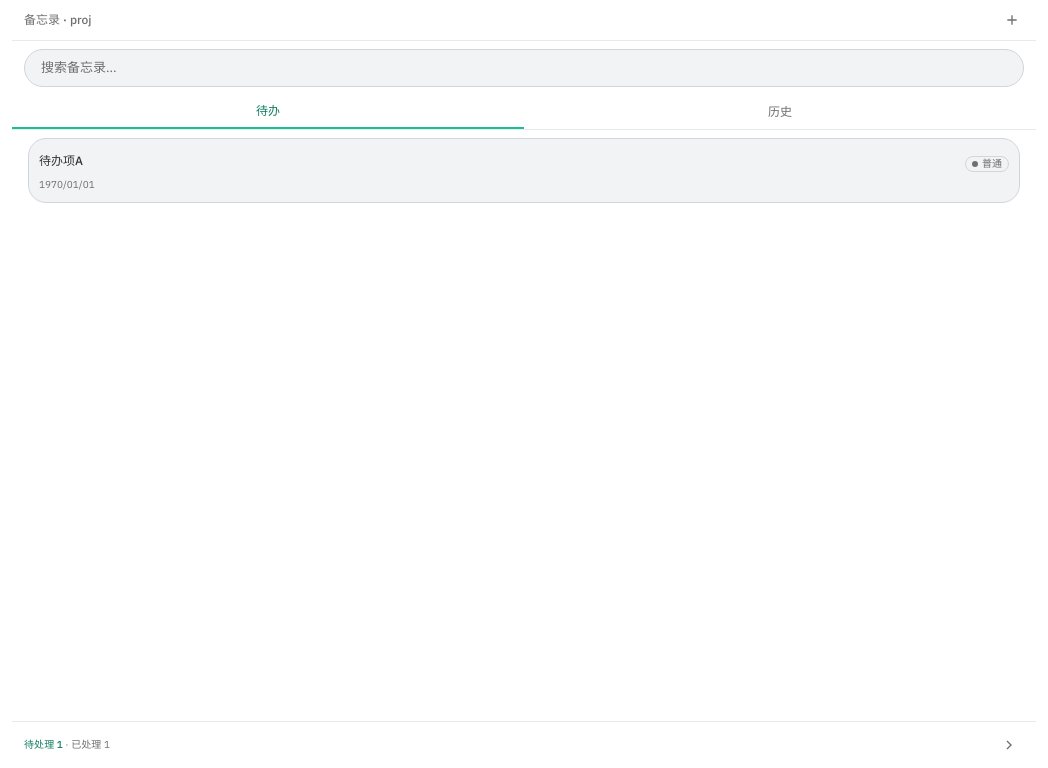
Test: MemoPanel · Tab 切换 › 切回待办 Tab 后待办项可见
Click the button "历史" at (780, 112), box [524,94,1036,128]
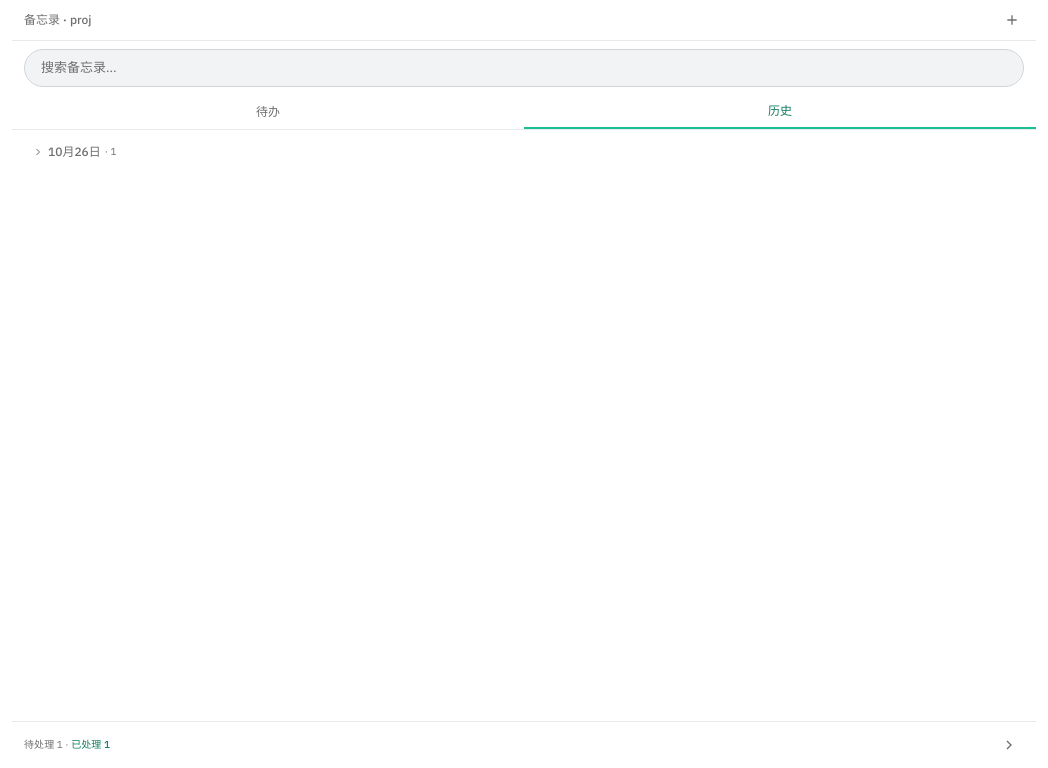
Click the button "待办" at (268, 112), box [12,94,524,128]
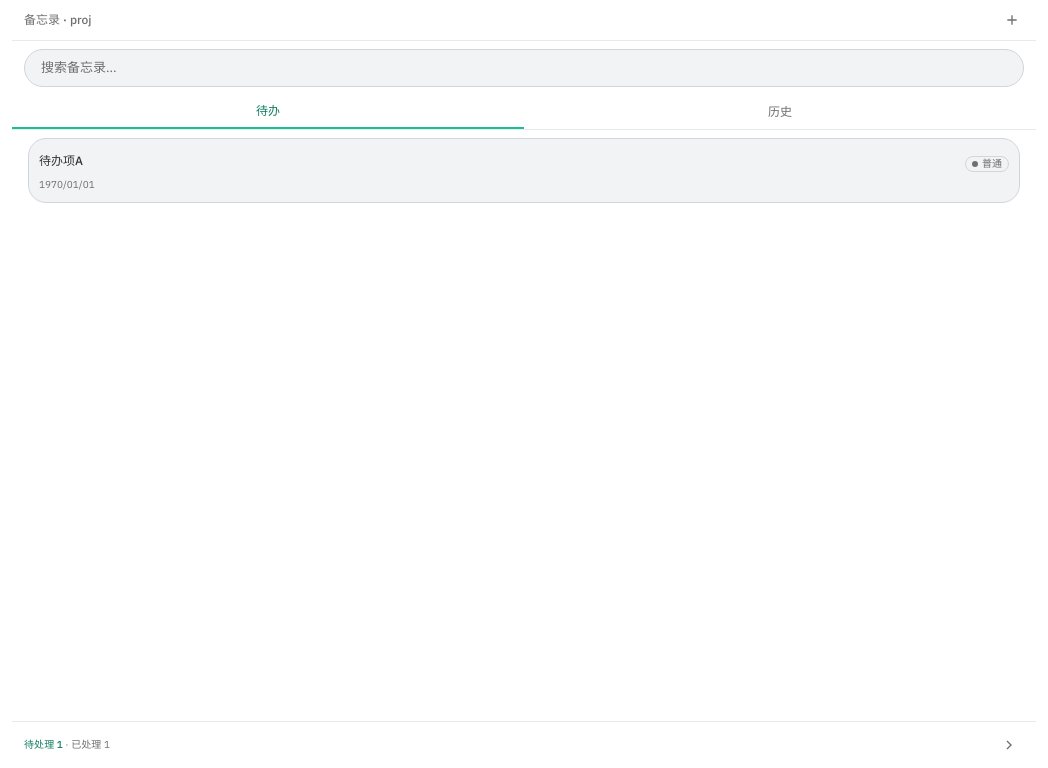
Check: the text "待办项A" is shown, box [39,152,83,168]
